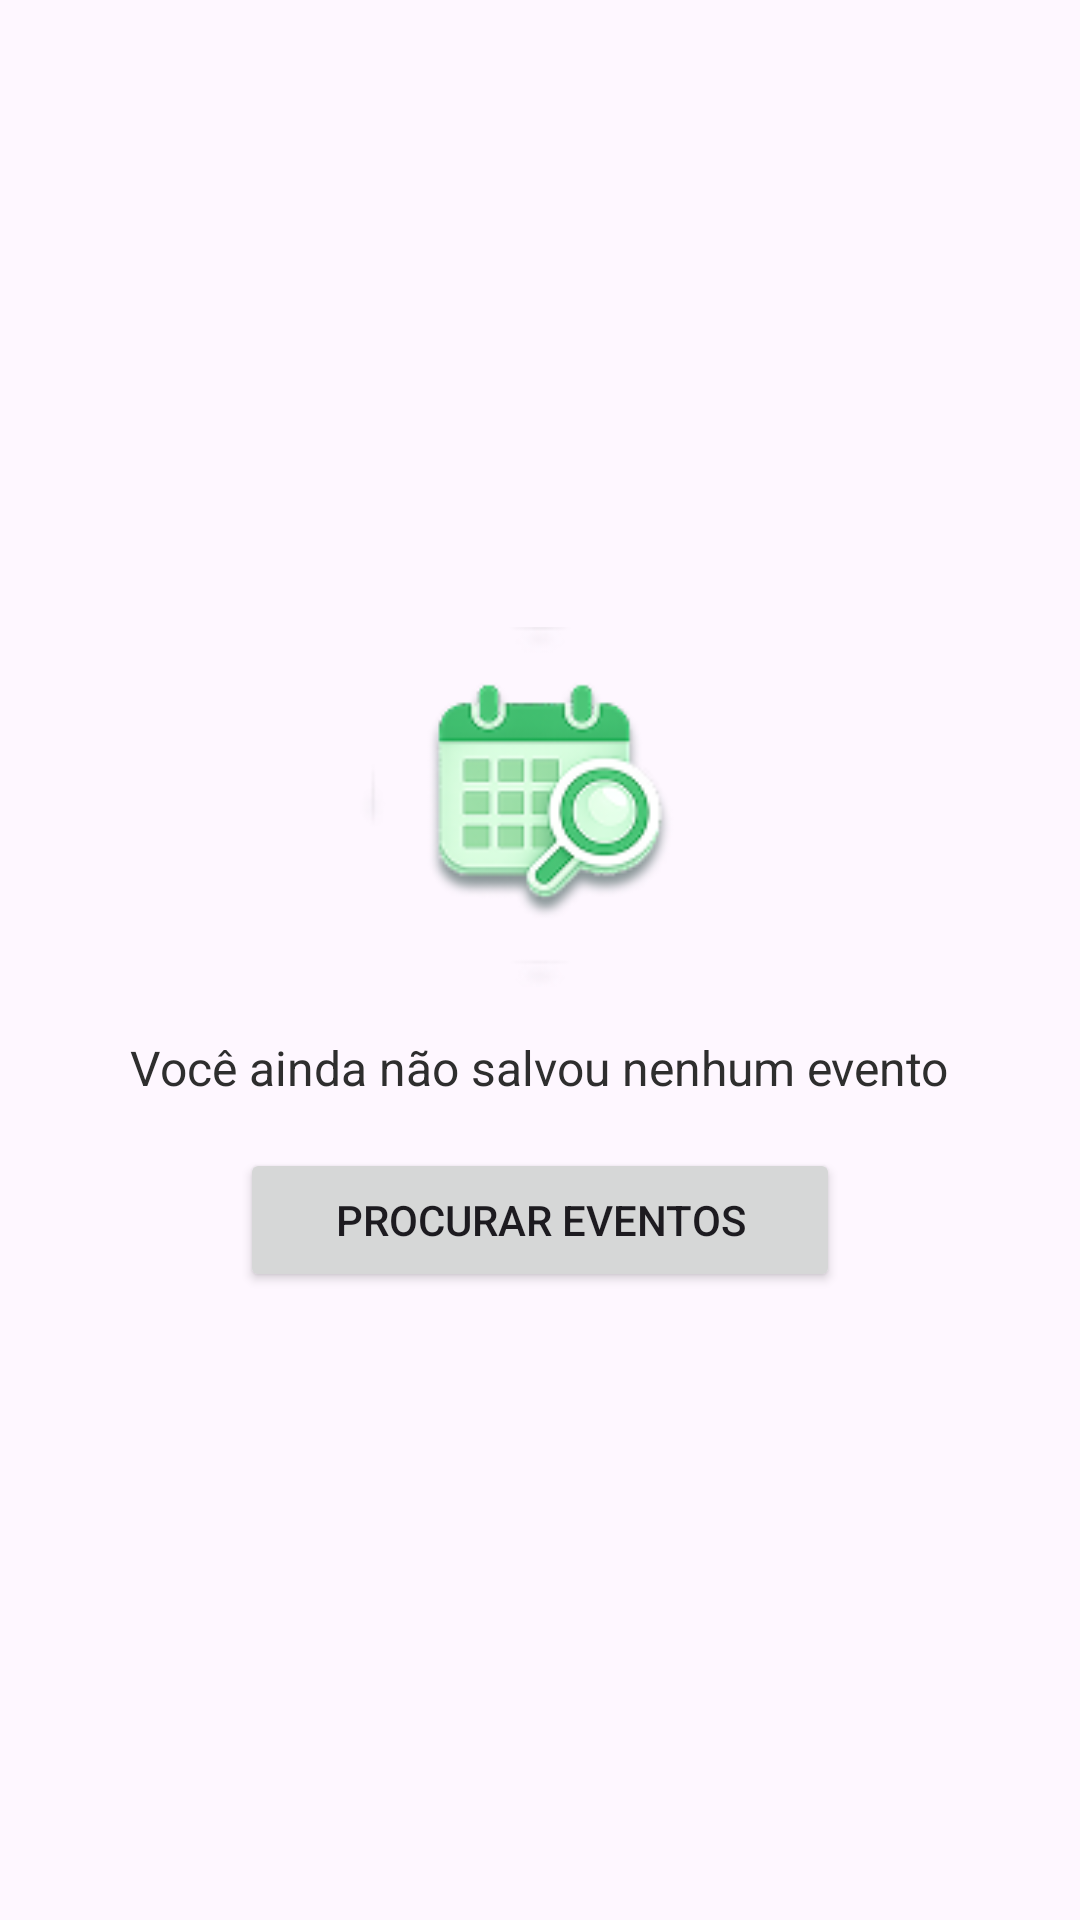

Point at icon controls on the screen. Image size 1080*1920, points as (x,y).
calendariolupa: (550,798)
